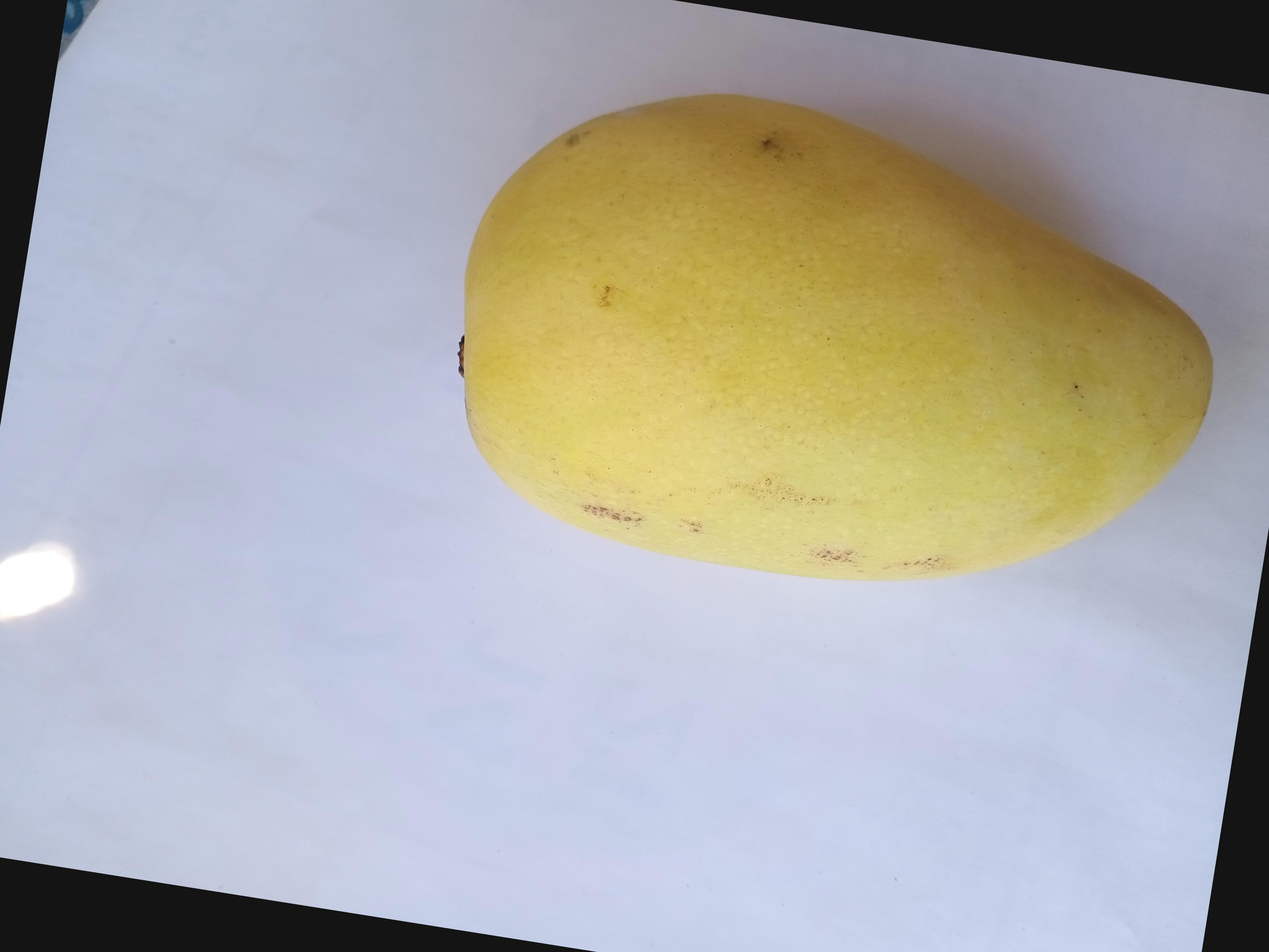Mango Ripe: (462, 0, 1269, 551)
